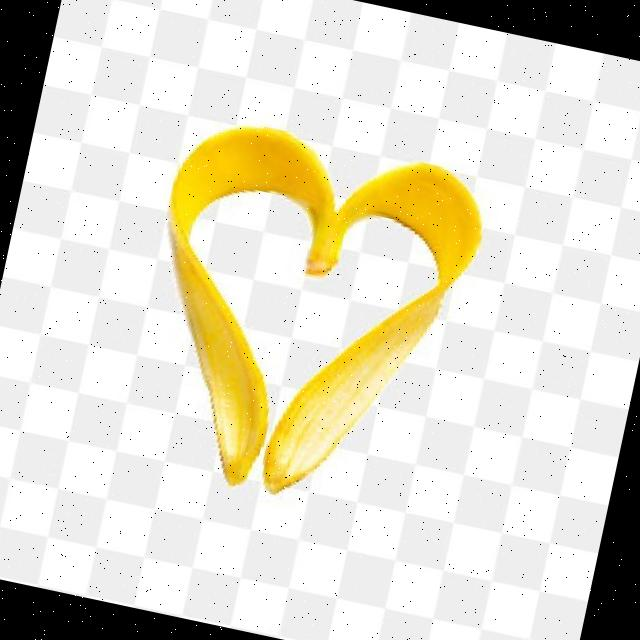banana-peel: (112, 106, 496, 526)
